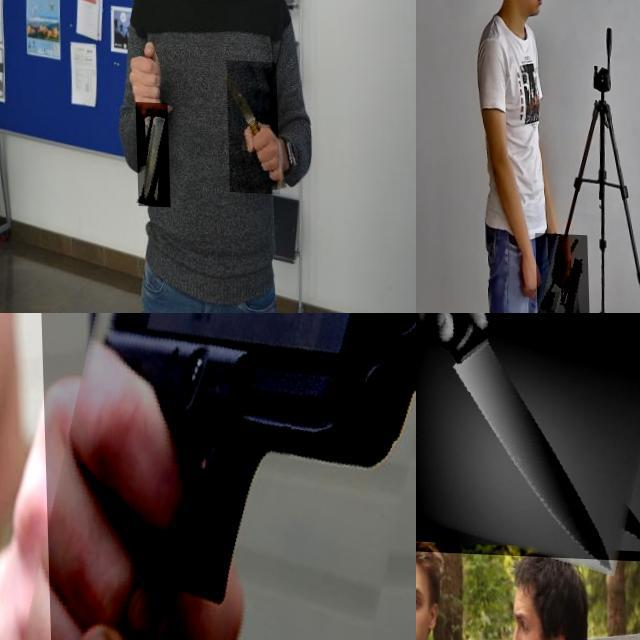-: (416, 313, 640, 559), (224, 57, 277, 191), (133, 100, 167, 204)
gun-knife-thesis - v11 Yolov5 augmented: (35, 313, 416, 640), (532, 230, 587, 313)
